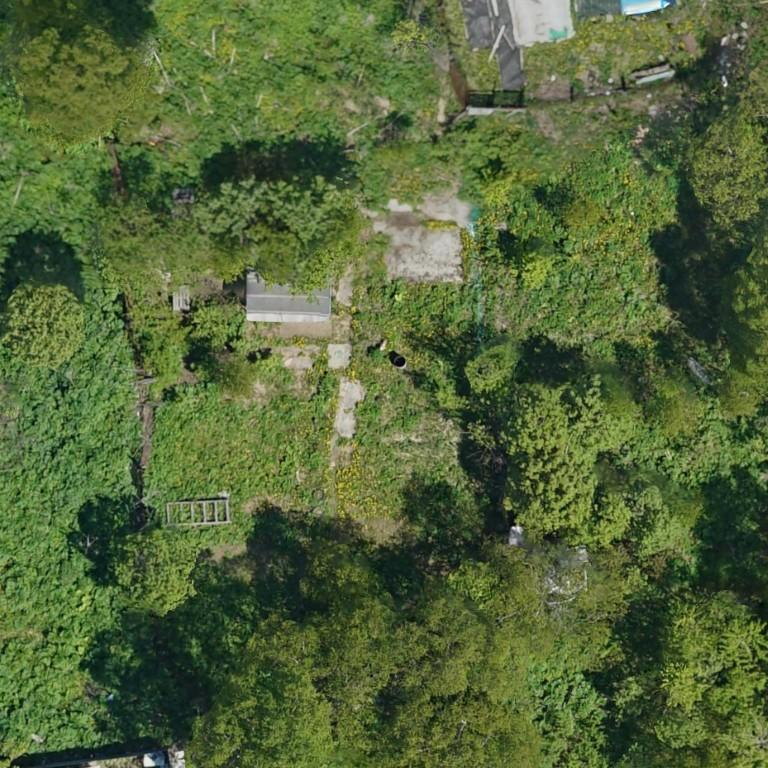hogweed: (0, 300, 175, 756)
